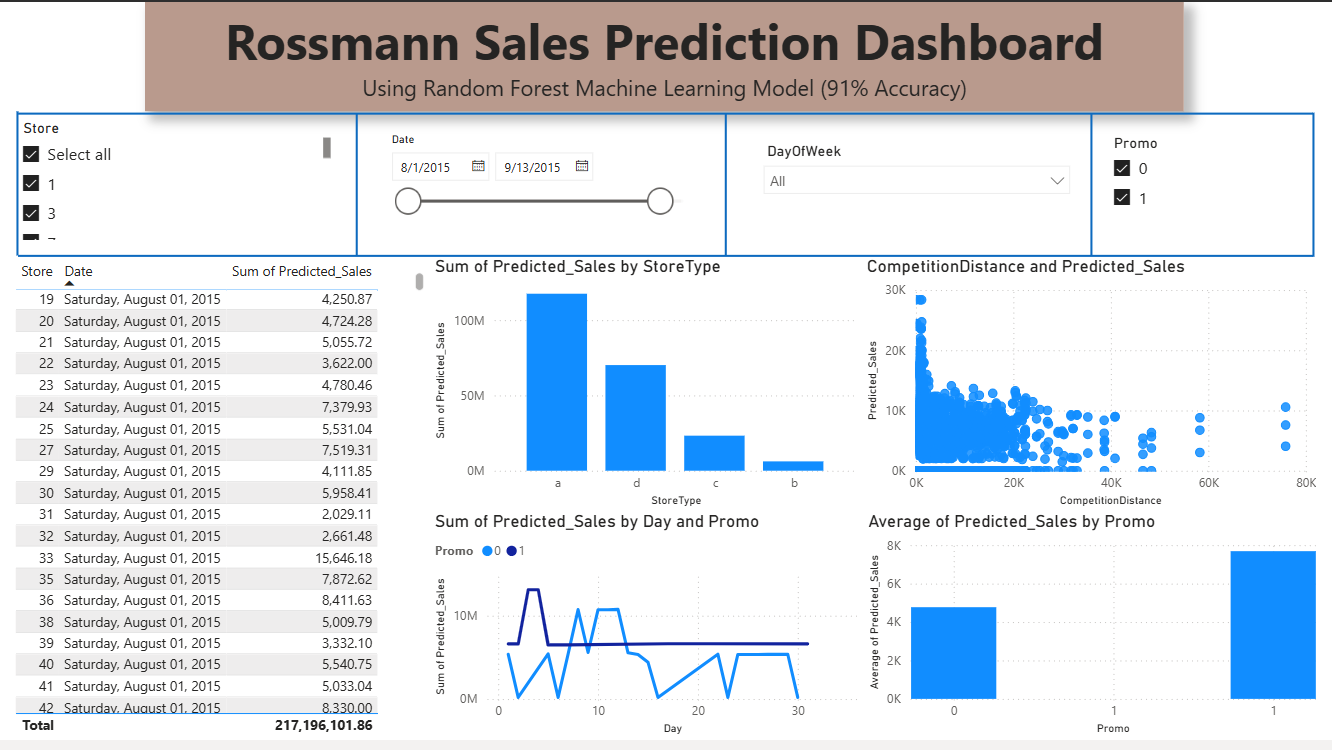

Layout of this report page (visuals, bound fields, positions):
{"tool":"powerbi","page":{"name":"Page 1","canvas":[1280,720],"ordinal":0},"visuals":[{"type":"tableEx","fields":{"Values":["df_test_raw_result.Store","df_test_raw_result.Date","Sum(df_test_raw_result.Predicted_Sales)"]},"box":[0,247.7,409.7,472.8],"z":0},{"type":"slicer","fields":{"Values":["df_test_raw_result.Store"]},"box":[0,110,318.6,127.1],"z":1000},{"type":"slicer","fields":{"Values":["df_test_raw_result.Date"]},"box":[360,122.5,318.8,103.8],"z":2000},{"type":"slicer","fields":{"Values":["df_test_raw_result.DayOfWeek"]},"box":[726.2,132.5,318.8,81.2],"z":3000},{"type":"slicer","fields":{"Values":["df_test_raw_result.Promo"]},"box":[1065,123.3,196.7,91.7],"z":4000},{"type":"clusteredColumnChart","fields":{"Category":["df_test_raw_result.StoreType"],"Y":["Sum(df_test_raw_result.Predicted_Sales)"]},"box":[409.7,247.7,422.6,249.4],"z":5000},{"type":"textbox","box":[131.7,0,1015,106.7],"z":6000},{"type":"scatterChart","fields":{"X":["df_test_raw_result.CompetitionDistance"],"Y":["df_test_raw_result.Predicted_Sales"]},"box":[832.3,247.7,448.5,249.4],"z":7000},{"type":"lineChart","fields":{"Category":["df_test_raw_result.Date.Variation.Date Hierarchy.Day"],"Y":["Sum(df_test_raw_result.Predicted_Sales)"],"Series":["df_test_raw_result.Promo"]},"box":[410,497,423,223],"z":8000},{"type":"clusteredColumnChart","fields":{"Category":["df_test_raw_result.Promo"],"Y":["Avg(df_test_raw_result.Predicted_Sales)"]},"box":[833,497,447,223],"z":9000},{"type":"shape","box":[326.7,110,23.3,138.3],"z":10000},{"type":"shape","box":[688.3,110,21.7,138.3],"z":11000},{"type":"shape","box":[1050,110,13.3,138.3],"z":12000},{"type":"shape","box":[8.3,241.7,1265,13.3],"z":13000},{"type":"shape","box":[8.3,101.7,1265,15],"z":14000},{"type":"shape","box":[0,106.9,14.6,140.9],"z":15000},{"type":"shape","box":[1266.2,108.5,14.6,140.9],"z":16000}]}

Visuals, with their boxes in screenshot pixels (x1, y1, x2, y2), scaled from the page's 1280x720 canvas onto the 1332x750 screenshot:
tableEx - df_test_raw_result.Store x df_test_raw_result.Date: (left=0, top=258, right=426, bottom=749)
slicer - df_test_raw_result.Store: (left=0, top=115, right=332, bottom=247)
slicer - df_test_raw_result.Date: (left=375, top=128, right=706, bottom=236)
slicer - df_test_raw_result.DayOfWeek: (left=756, top=138, right=1087, bottom=223)
slicer - df_test_raw_result.Promo: (left=1108, top=128, right=1313, bottom=224)
clusteredColumnChart - df_test_raw_result.StoreType x Sum(df_test_raw_result.Predicted_Sales): (left=426, top=258, right=866, bottom=518)
textbox: (left=137, top=0, right=1193, bottom=111)
scatterChart - df_test_raw_result.CompetitionDistance x df_test_raw_result.Predicted_Sales: (left=866, top=258, right=1331, bottom=518)
lineChart - df_test_raw_result.Date.Variation.Date Hierarchy.Day x Sum(df_test_raw_result.Predicted_Sales): (left=427, top=518, right=867, bottom=749)
clusteredColumnChart - df_test_raw_result.Promo x Avg(df_test_raw_result.Predicted_Sales): (left=867, top=518, right=1331, bottom=749)
shape: (left=340, top=115, right=364, bottom=259)
shape: (left=716, top=115, right=739, bottom=259)
shape: (left=1093, top=115, right=1106, bottom=259)
shape: (left=9, top=252, right=1325, bottom=266)
shape: (left=9, top=106, right=1325, bottom=122)
shape: (left=0, top=111, right=15, bottom=258)
shape: (left=1318, top=113, right=1331, bottom=260)
